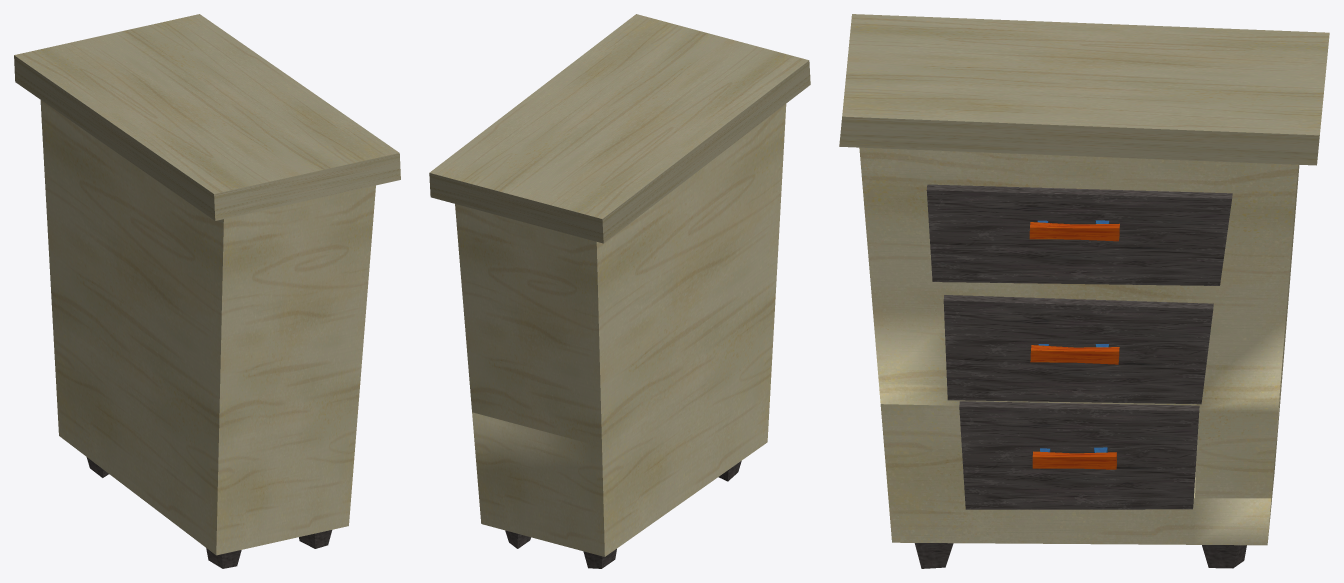
File: ahşap-çekmece.fbx
3 views of the same model, side by side, from view 1: azimuth 30°, elevation 25°; view 2: azimuth 150°, elevation 25°; view 3: azimuth 270°, elevation 25° (orthographic). The views are drawn at different scales.
Visible parts, largest first — view 1: 041_Box; view 2: 041_Box; view 3: 041_Box.
Boxes of the visible parts, x1,y1,x2,y2 form: 041_Box: (14, 14, 400, 568); 041_Box: (429, 14, 810, 568); 041_Box: (839, 14, 1329, 568).
Size of the model in its own units: 2619 by 5206 by 4888.
Materials: 15 (15 with a texture image).
